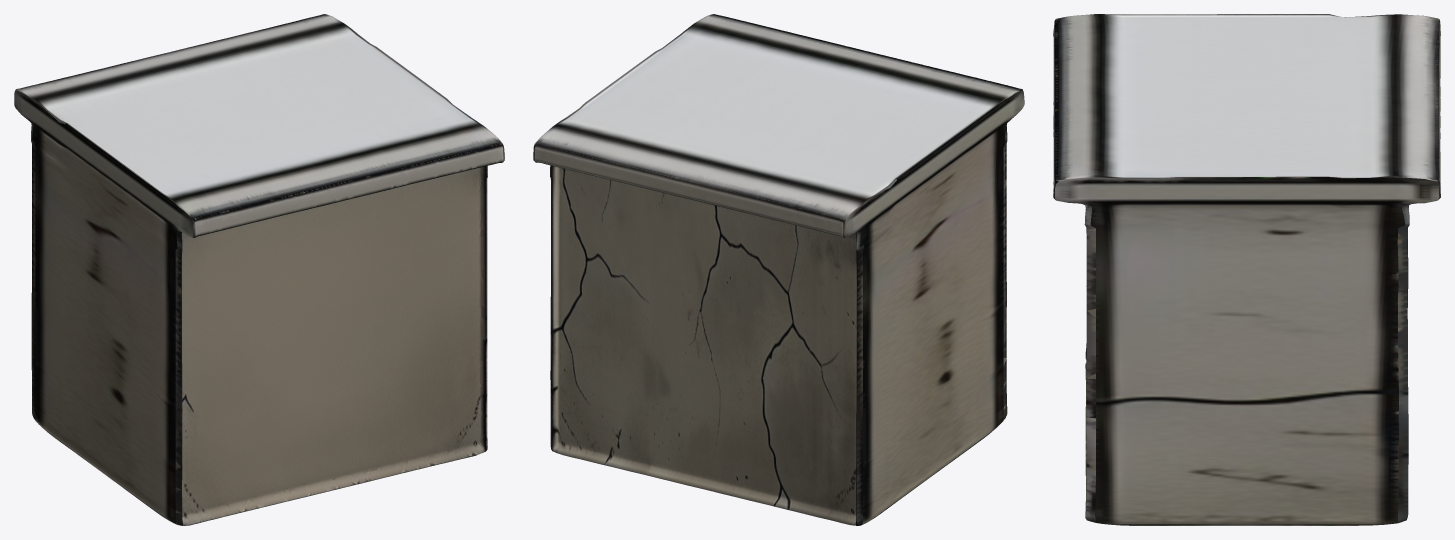
File: wall-plaster-half.glb
The picture shows the model from 3 angles, left to right: view 1: azimuth 30°, elevation 25°; view 2: azimuth 150°, elevation 25°; view 3: azimuth 270°, elevation 25°; orthographic projection. The views are drawn at different scales.
Visible parts, largest first — view 1: tmp5s0s6qmn.ply; view 2: tmp5s0s6qmn.ply; view 3: tmp5s0s6qmn.ply.
Part boxes in pixels (<box>): tmp5s0s6qmn.ply: <box>14,14,504,525</box>; tmp5s0s6qmn.ply: <box>533,14,1024,525</box>; tmp5s0s6qmn.ply: <box>1053,14,1440,525</box>.
Bounding box in the file's own units: 1 × 1 × 1.
1 material, 1 textured.
